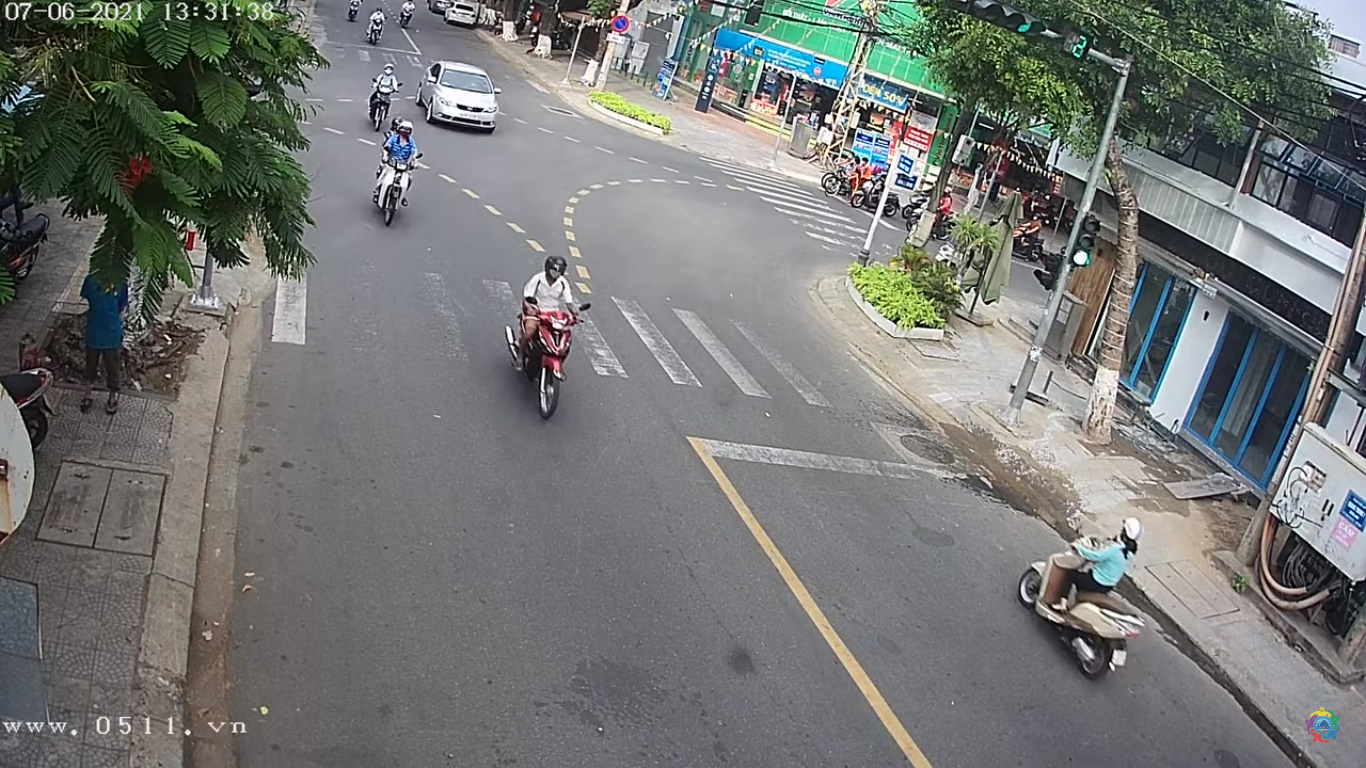car: (420, 62, 505, 130)
motorbike: (501, 256, 597, 417), (370, 126, 421, 227)
